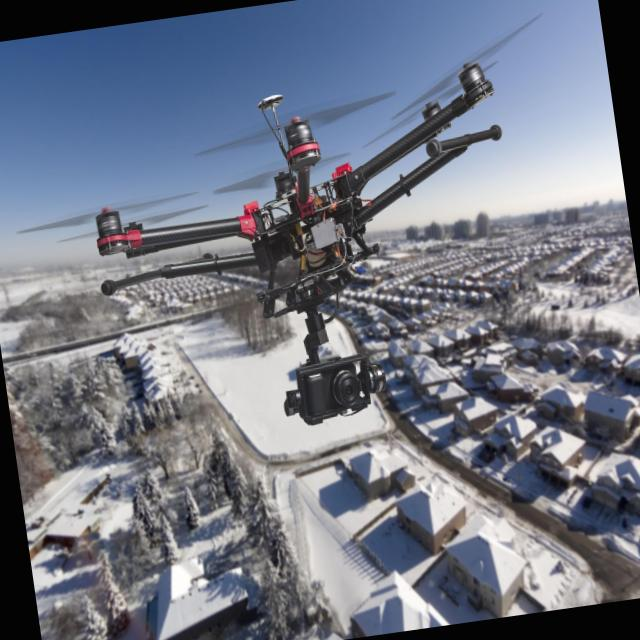drone: (76, 54, 540, 452)
